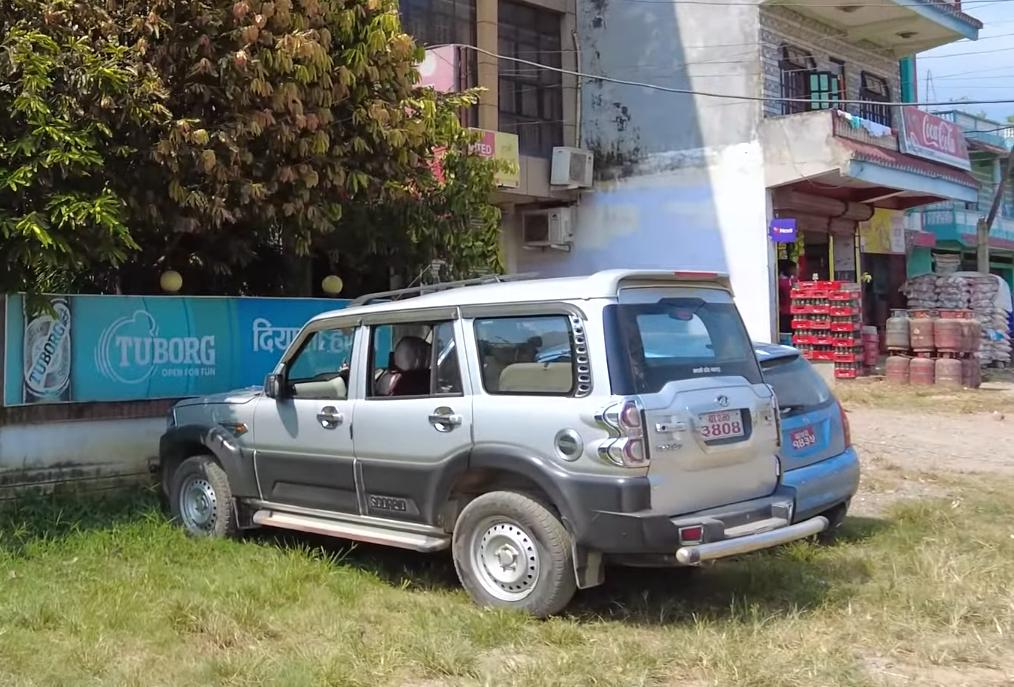SUV: (133, 259, 816, 613)
